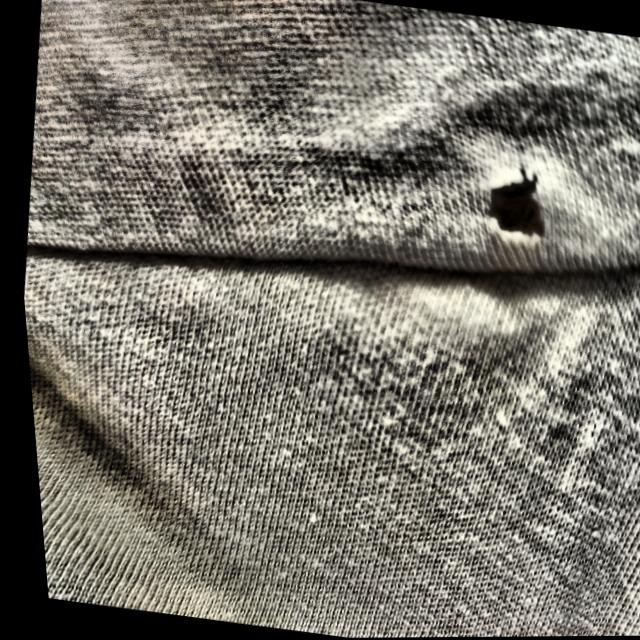Hole: (458, 150, 566, 257)
